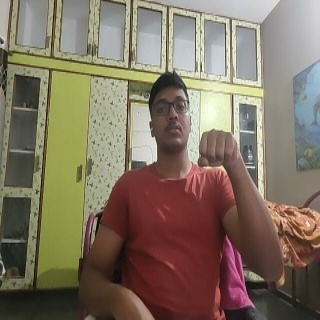Face: (149, 70, 191, 156)
Yes: (197, 126, 245, 179)
